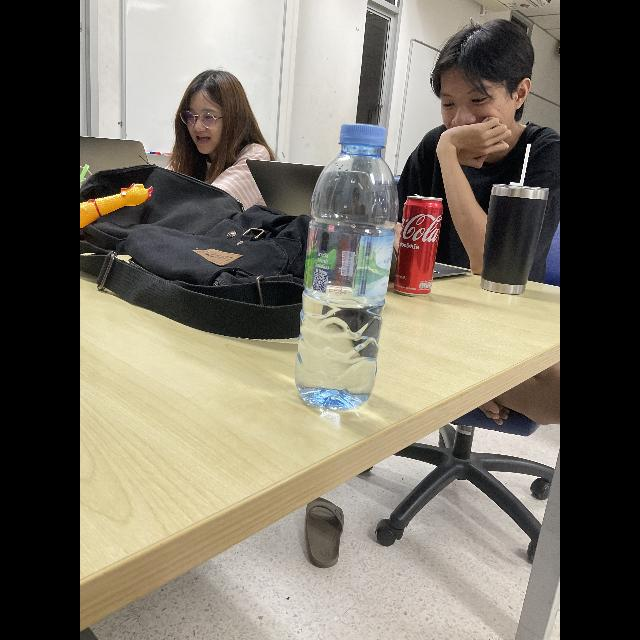can: (391, 195, 443, 301)
plastic_bottle: (294, 123, 401, 411)
plastic_bottle_cap: (336, 122, 388, 150)
